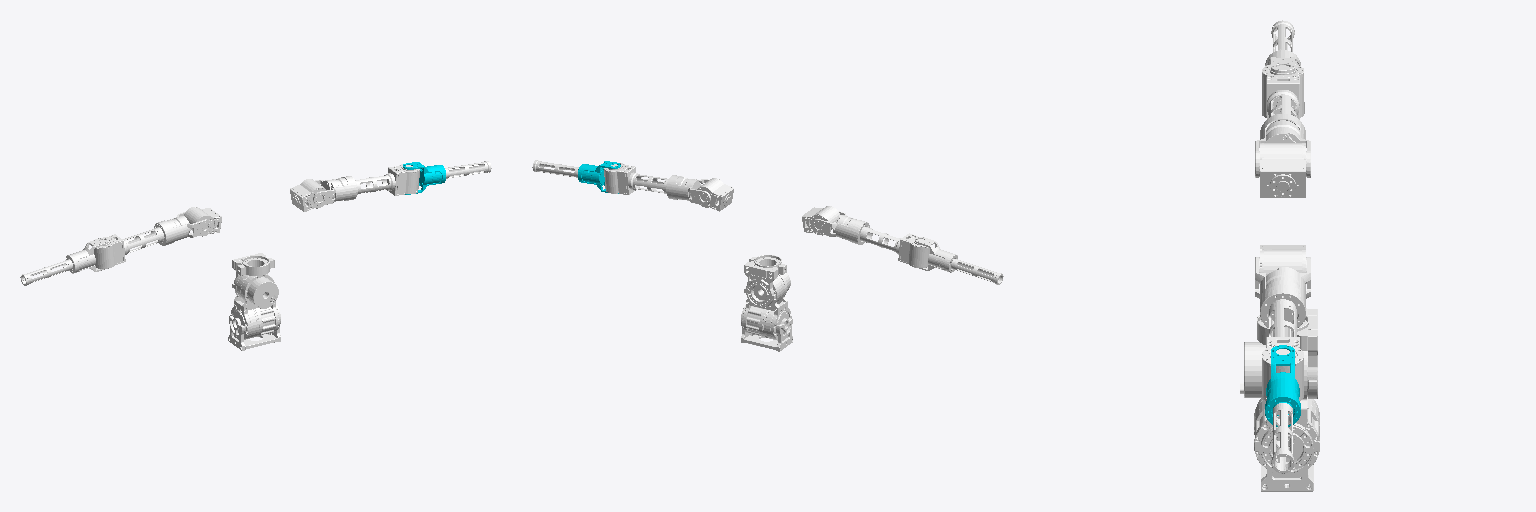
The robot description file, URDF, robot "guge_urdf":
<?xml version="1.0" encoding="utf-8"?>
<!-- This URDF was automatically created by SolidWorks to URDF Exporter! Originally created by Stephen Brawner (brawner@gmail.com) 
     Commit Version: 1.6.0-4-g7f85cfe  Build Version: 1.6.7995.38578
     For more information, please see http://wiki.ros.org/sw_urdf_exporter -->
<robot
  name="guge_urdf">
  <link name="base_footprint"/>
  <joint name="base_joint" type="fixed">
    <parent link="base_footprint"/>
    <child link="base_link"/>
    <origin xyz="0 0 0" rpy="0 0 0"/>
  </joint>
  <link
    name="base_link">
    <inertial>
      <origin
        xyz="0.00190639026610518 -0.0117675767050606 0.0121831043800871"
        rpy="0 0 0" />
      <mass
        value="0.0735648375268099" />
      <inertia
        ixx="5.12224778504478E-05"
        ixy="-1.00529921128209E-08"
        ixz="2.88787707212053E-07"
        iyy="4.80650643169955E-05"
        iyz="-1.24729593477925E-07"
        izz="5.25189016539282E-05" />
    </inertial>
    <visual>
      <origin
        xyz="0 0 0"
        rpy="0 0 0" />
      <geometry>
        <mesh
          filename="package://guge_urdf/meshes/base_link.STL" />
      </geometry>
      <material
        name="">
        <color
          rgba="1 1 1 1" />
      </material>
    </visual>
    <collision>
      <origin
        xyz="0 0 0"
        rpy="0 0 0" />
      <geometry>
        <mesh
          filename="package://guge_urdf/meshes/base_link.STL" />
      </geometry>
    </collision>
  </link>
  <link
    name="spine1">
    <inertial>
      <origin
        xyz="0.0389276332793516 0.00499533708491126 -0.000482302723753972"
        rpy="0 0 0" />
      <mass
        value="0.725188871861127" />
      <inertia
        ixx="0.00057293011231733"
        ixy="1.00676190675644E-07"
        ixz="-1.05753932755853E-06"
        iyy="0.000580138631380818"
        iyz="3.29512502419463E-07"
        izz="0.000577053228842572" />
    </inertial>
    <visual>
      <origin
        xyz="0 0 0"
        rpy="0 0 0" />
      <geometry>
        <mesh
          filename="package://guge_urdf/meshes/spine1.STL" />
      </geometry>
      <material
        name="">
        <color
          rgba="1 1 1 1" />
      </material>
    </visual>
    <collision>
      <origin
        xyz="0 0 0"
        rpy="0 0 0" />
      <geometry>
        <mesh
          filename="package://guge_urdf/meshes/spine1.STL" />
      </geometry>
    </collision>
  </link>
  <joint
    name="spine1"
    type="revolute">
    <origin
      xyz="0.00025 -0.011777 0.04725"
      rpy="3.1416 -1.5708 0" />
    <parent
      link="base_link" />
    <child
      link="spine1" />
    <axis
      xyz="0 0 -1" />
    <limit
      lower="-1.0472"
      upper="1.0472"
      effort="100"
      velocity="1" />
  </joint>
  <link
    name="spine2">
    <inertial>
      <origin
        xyz="-1.56705211504975E-09 0.037397833263464 0.0227848087513084"
        rpy="0 0 0" />
      <mass
        value="0.0915668735319825" />
      <inertia
        ixx="5.57263631097904E-05"
        ixy="-1.4948167176365E-12"
        ixz="1.40401119818368E-12"
        iyy="7.41357670859027E-05"
        iyz="3.06789885545762E-07"
        izz="8.91496241449259E-05" />
    </inertial>
    <visual>
      <origin
        xyz="0 0 0"
        rpy="0 0 0" />
      <geometry>
        <mesh
          filename="package://guge_urdf/meshes/spine2.STL" />
      </geometry>
      <material
        name="">
        <color
          rgba="1 1 1 1" />
      </material>
    </visual>
    <collision>
      <origin
        xyz="0 0 0"
        rpy="0 0 0" />
      <geometry>
        <mesh
          filename="package://guge_urdf/meshes/spine2.STL" />
      </geometry>
    </collision>
  </link>
  <joint
    name="spine2"
    type="revolute">
    <origin
      xyz="0.082 0.005 0"
      rpy="1.5708 1.5708 0" />
    <parent
      link="spine1" />
    <child
      link="spine2" />
    <axis
      xyz="0 0 1" />
    <limit
      lower="-1.0472"
      upper="1.0472"
      effort="100"
      velocity="1" />
  </joint>
  <link
    name="spine3">
    <inertial>
      <origin
        xyz="-0.105525092918912 9.89614714619036E-05 -0.000781485814982597"
        rpy="0 0 0" />
      <mass
        value="0.952000795664401" />
      <inertia
        ixx="0.000775321788502458"
        ixy="-2.03648065018548E-08"
        ixz="6.51952018651341E-07"
        iyy="0.000750870190589932"
        iyz="1.3604796395898E-07"
        izz="0.0011267481289553" />
    </inertial>
    <visual>
      <origin
        xyz="0 0 0"
        rpy="0 0 0" />
      <geometry>
        <mesh
          filename="package://guge_urdf/meshes/spine3.STL" />
      </geometry>
      <material
        name="">
        <color
          rgba="0 0.925490196078431 1 1" />
      </material>
    </visual>
    <collision>
      <origin
        xyz="0 0 0"
        rpy="0 0 0" />
      <geometry>
        <mesh
          filename="package://guge_urdf/meshes/spine3.STL" />
      </geometry>
    </collision>
  </link>
  <joint
    name="spine3"
    type="revolute">
    <origin
      xyz="0 0.0645 0"
      rpy="0 0 -1.5708" />
    <parent
      link="spine2" />
    <child
      link="spine3" />
    <axis
      xyz="1 0 0" />
    <limit
      lower="-1.0472"
      upper="1.0472"
      effort="100"
      velocity="1" />
  </joint>
  <link
    name="left_arm1">
    <inertial>
      <origin
        xyz="-0.0362475607657735 5.69056149424263E-10 -0.000276670710870803"
        rpy="0 0 0" />
      <mass
        value="0.161439178700446" />
      <inertia
        ixx="6.77226963517571E-05"
        ixy="-2.43681565201346E-13"
        ixz="-2.77566680821334E-07"
        iyy="8.4282842984588E-05"
        iyz="-9.91046566710213E-10"
        izz="6.90616005014233E-05" />
    </inertial>
    <visual>
      <origin
        xyz="0 0 0"
        rpy="0 0 0" />
      <geometry>
        <mesh
          filename="package://guge_urdf/meshes/left_arm1.STL" />
      </geometry>
      <material
        name="">
        <color
          rgba="1 1 1 1" />
      </material>
    </visual>
    <collision>
      <origin
        xyz="0 0 0"
        rpy="0 0 0" />
      <geometry>
        <mesh
          filename="package://guge_urdf/meshes/left_arm1.STL" />
      </geometry>
    </collision>
  </link>
  <joint
    name="left_arm1"
    type="revolute">
    <origin
      xyz="-0.13199 0.10772 0"
      rpy="0 0 -1.3963" />
    <parent
      link="spine3" />
    <child
      link="left_arm1" />
    <axis
      xyz="1 0 0" />
    <limit
      lower="-2.0944"
      upper="2.0944"
      effort="100"
      velocity="1" />
  </joint>
  <link
    name="left_arm2">
    <inertial>
      <origin
        xyz="1.62124578136115E-05 -0.0657239022806876 -1.94246126211661E-07"
        rpy="0 0 0" />
      <mass
        value="0.158227100759892" />
      <inertia
        ixx="0.00011101791282566"
        ixy="9.51083034986573E-09"
        ixz="-4.48264615859192E-07"
        iyy="6.59201417952007E-05"
        iyz="-2.21910128137963E-10"
        izz="0.000124015936889463" />
    </inertial>
    <visual>
      <origin
        xyz="0 0 0"
        rpy="0 0 0" />
      <geometry>
        <mesh
          filename="package://guge_urdf/meshes/letf_arm2.STL" />
      </geometry>
      <material
        name="">
        <color
          rgba="1 1 1 1" />
      </material>
    </visual>
    <collision>
      <origin
        xyz="0 0 0"
        rpy="0 0 0" />
      <geometry>
        <mesh
          filename="package://guge_urdf/meshes/letf_arm2.STL" />
      </geometry>
    </collision>
  </link>
  <joint
    name="left_arm2"
    type="revolute">
    <origin
      xyz="-0.0455 0 0"
      rpy="1.3091 -1.5708 3.1416" />
    <parent
      link="left_arm1" />
    <child
      link="left_arm2" />
    <axis
      xyz="1 0 0" />
    <limit
      lower="-2.2689"
      upper="2.2689"
      effort="100"
      velocity="1" />
  </joint>
  <link
    name="left_arm3">
    <inertial>
      <origin
        xyz="-0.130583566946272 0.000138485195165489 -1.30075265957624E-07"
        rpy="0 0 0" />
      <mass
        value="0.183435528555647" />
      <inertia
        ixx="7.34005893594831E-05"
        ixy="-2.78265673363987E-07"
        ixz="1.20682067839756E-09"
        iyy="0.000103245245639303"
        iyz="1.0126928489571E-08"
        izz="0.00011845594161857" />
    </inertial>
    <visual>
      <origin
        xyz="0 0 0"
        rpy="0 0 0" />
      <geometry>
        <mesh
          filename="package://guge_urdf/meshes/letf_arm3.STL" />
      </geometry>
      <material
        name="">
        <color
          rgba="1 1 1 1" />
      </material>
    </visual>
    <collision>
      <origin
        xyz="0 0 0"
        rpy="0 0 0" />
      <geometry>
        <mesh
          filename="package://guge_urdf/meshes/letf_arm3.STL" />
      </geometry>
    </collision>
  </link>
  <joint
    name="left_arm3"
    type="revolute">
    <origin
      xyz="1.5E-05 -0.103 0"
      rpy="-1.5708 0 1.5708" />
    <parent
      link="left_arm2" />
    <child
      link="left_arm3" />
    <axis
      xyz="-1 0 0" />
    <limit
      lower="-2.0944"
      upper="2.0944"
      effort="100"
      velocity="1" />
  </joint>
  <link
    name="left_arm4">
    <inertial>
      <origin
        xyz="0.000495647305943342 -0.0563067339315681 1.40988440928969E-07"
        rpy="0 0 0" />
      <mass
        value="0.0862002261321482" />
      <inertia
        ixx="4.43487500505482E-05"
        ixy="1.18962177525358E-08"
        ixz="-7.73868876942444E-10"
        iyy="2.73177082557491E-05"
        iyz="-4.46513009035675E-11"
        izz="5.38102290465927E-05" />
    </inertial>
    <visual>
      <origin
        xyz="0 0 0"
        rpy="0 0 0" />
      <geometry>
        <mesh
          filename="package://guge_urdf/meshes/letf_arm4.STL" />
      </geometry>
      <material
        name="">
        <color
          rgba="1 1 1 1" />
      </material>
    </visual>
    <collision>
      <origin
        xyz="0 0 0"
        rpy="0 0 0" />
      <geometry>
        <mesh
          filename="package://guge_urdf/meshes/letf_arm4.STL" />
      </geometry>
    </collision>
  </link>
  <joint
    name="left_arm4"
    type="revolute">
    <origin
      xyz="-0.1505 0 0"
      rpy="3.1416 0 1.5708" />
    <parent
      link="left_arm3" />
    <child
      link="left_arm4" />
    <axis
      xyz="-1 0 0" />
    <limit
      lower="-2.0944"
      upper="2.0944"
      effort="100"
      velocity="1" />
  </joint>
  <link
    name="left_arm5">
    <inertial>
      <origin
        xyz="0.0613545689657162 -7.53654428649331E-07 9.49357964047381E-07"
        rpy="0 0 0" />
      <mass
        value="0.0159909789683146" />
      <inertia
        ixx="2.01607720240835E-06"
        ixy="-7.22779476448106E-10"
        ixz="9.17251228240111E-10"
        iyy="3.00020832431416E-05"
        iyz="4.16027131068942E-09"
        izz="3.00001299678427E-05" />
    </inertial>
    <visual>
      <origin
        xyz="0 0 0"
        rpy="0 0 0" />
      <geometry>
        <mesh
          filename="package://guge_urdf/meshes/letf_arm5.STL" />
      </geometry>
      <material
        name="">
        <color
          rgba="1 1 1 1" />
      </material>
    </visual>
    <collision>
      <origin
        xyz="0 0 0"
        rpy="0 0 0" />
      <geometry>
        <mesh
          filename="package://guge_urdf/meshes/letf_arm5.STL" />
      </geometry>
    </collision>
  </link>
  <joint
    name="left_arm5"
    type="revolute">
    <origin
      xyz="0.00049256 -0.09 0"
      rpy="-1.5708 0 -1.5708" />
    <parent
      link="left_arm4" />
    <child
      link="left_arm5" />
    <axis
      xyz="-1 0 0" />
    <limit
      lower="-2.0944"
      upper="2.0944"
      effort="100"
      velocity="1" />
  </joint>
  <link
    name="right_arm1">
    <inertial>
      <origin
        xyz="-0.0362475607657736 -0.000276670710870803 -5.69057301280651E-10"
        rpy="0 0 0" />
      <mass
        value="0.161439178700446" />
      <inertia
        ixx="6.7722696351757E-05"
        ixy="-2.77566680821345E-07"
        ixz="2.43681067145962E-13"
        iyy="6.90616005014232E-05"
        iyz="9.91046566699499E-10"
        izz="8.42828429845879E-05" />
    </inertial>
    <visual>
      <origin
        xyz="0 0 0"
        rpy="0 0 0" />
      <geometry>
        <mesh
          filename="package://guge_urdf/meshes/right_arm1.STL" />
      </geometry>
      <material
        name="">
        <color
          rgba="1 1 1 1" />
      </material>
    </visual>
    <collision>
      <origin
        xyz="0 0 0"
        rpy="0 0 0" />
      <geometry>
        <mesh
          filename="package://guge_urdf/meshes/right_arm1.STL" />
      </geometry>
    </collision>
  </link>
  <joint
    name="right_arm1"
    type="revolute">
    <origin
      xyz="-0.13199 -0.10772 0"
      rpy="-1.5708 0 1.3963" />
    <parent
      link="spine3" />
    <child
      link="right_arm1" />
    <axis
      xyz="1 0 0" />
    <limit
      lower="-2.0944"
      upper="2.0944"
      effort="100"
      velocity="1" />
  </joint>
  <link
    name="right_arm2">
    <inertial>
      <origin
        xyz="1.94246126128395E-07 -0.0657239022806877 1.62124578136462E-05"
        rpy="0 0 0" />
      <mass
        value="0.158227100759892" />
      <inertia
        ixx="0.000124015936889462"
        ixy="2.21910128315818E-10"
        ixz="4.48264615859155E-07"
        iyy="6.59201417952006E-05"
        iyz="9.51083034978799E-09"
        izz="0.00011101791282566" />
    </inertial>
    <visual>
      <origin
        xyz="0 0 0"
        rpy="0 0 0" />
      <geometry>
        <mesh
          filename="package://guge_urdf/meshes/right_arm2.STL" />
      </geometry>
      <material
        name="">
        <color
          rgba="1 1 1 1" />
      </material>
    </visual>
    <collision>
      <origin
        xyz="0 0 0"
        rpy="0 0 0" />
      <geometry>
        <mesh
          filename="package://guge_urdf/meshes/right_arm2.STL" />
      </geometry>
    </collision>
  </link>
  <joint
    name="right_arm2"
    type="revolute">
    <origin
      xyz="-0.0455 0 0"
      rpy="1.5708 -1.3090 3.1416" />
    <parent
      link="right_arm1" />
    <child
      link="right_arm2" />
    <axis
      xyz="0 0 -1" />
    <limit
      lower="-2.0944"
      upper="2.0944"
      effort="100"
      velocity="1" />
  </joint>
  <link
    name="right_arm3">
    <inertial>
      <origin
        xyz="-0.130583566946272 0.0001384851951656 -1.30075266027013E-07"
        rpy="0 0 0" />
      <mass
        value="0.183435528555647" />
      <inertia
        ixx="7.34005893594831E-05"
        ixy="-2.7826567336397E-07"
        ixz="1.20682067843099E-09"
        iyy="0.000103245245639303"
        iyz="1.01269284896162E-08"
        izz="0.00011845594161857" />
    </inertial>
    <visual>
      <origin
        xyz="0 0 0"
        rpy="0 0 0" />
      <geometry>
        <mesh
          filename="package://guge_urdf/meshes/right_arm3.STL" />
      </geometry>
      <material
        name="">
        <color
          rgba="1 1 1 1" />
      </material>
    </visual>
    <collision>
      <origin
        xyz="0 0 0"
        rpy="0 0 0" />
      <geometry>
        <mesh
          filename="package://guge_urdf/meshes/right_arm3.STL" />
      </geometry>
    </collision>
  </link>
  <joint
    name="right_arm3"
    type="revolute">
    <origin
      xyz="0 -0.103 1.5E-05"
      rpy="-3.1416 0 1.5708" />
    <parent
      link="right_arm2" />
    <child
      link="right_arm3" />
    <axis
      xyz="-1 0 0" />
    <limit
      lower="-2.0944"
      upper="2.0944"
      effort="100"
      velocity="1" />
  </joint>
  <link
    name="right_arm4">
    <inertial>
      <origin
        xyz="0.000495647305943259 -0.0563067339315681 1.40988440883866E-07"
        rpy="0 0 0" />
      <mass
        value="0.0862002261321484" />
      <inertia
        ixx="4.43487500505483E-05"
        ixy="1.18962177525968E-08"
        ixz="-7.73868876995168E-10"
        iyy="2.73177082557492E-05"
        iyz="-4.465130087759E-11"
        izz="5.38102290465928E-05" />
    </inertial>
    <visual>
      <origin
        xyz="0 0 0"
        rpy="0 0 0" />
      <geometry>
        <mesh
          filename="package://guge_urdf/meshes/right_arm4.STL" />
      </geometry>
      <material
        name="">
        <color
          rgba="0 0.925490196078431 1 1" />
      </material>
    </visual>
    <collision>
      <origin
        xyz="0 0 0"
        rpy="0 0 0" />
      <geometry>
        <mesh
          filename="package://guge_urdf/meshes/right_arm4.STL" />
      </geometry>
    </collision>
  </link>
  <joint
    name="right_arm4"
    type="revolute">
    <origin
      xyz="-0.1505 0 0"
      rpy="3.1416 0 1.5708" />
    <parent
      link="right_arm3" />
    <child
      link="right_arm4" />
    <axis
      xyz="-1 0 0" />
    <limit
      lower="-2.0944"
      upper="2.0944"
      effort="100"
      velocity="1" />
  </joint>
  <link
    name="right_arm5">
    <inertial>
      <origin
        xyz="0.0613545689657166 9.4935796399187E-07 7.53654428895661E-07"
        rpy="0 0 0" />
      <mass
        value="0.0159909789683142" />
      <inertia
        ixx="2.01607720240832E-06"
        ixy="9.17251228225181E-10"
        ixz="7.22779476440289E-10"
        iyy="3.00001299678425E-05"
        iyz="-4.1602713106709E-09"
        izz="3.00020832431414E-05" />
    </inertial>
    <visual>
      <origin
        xyz="0 0 0"
        rpy="0 0 0" />
      <geometry>
        <mesh
          filename="package://guge_urdf/meshes/right_arm5.STL" />
      </geometry>
      <material
        name="">
        <color
          rgba="1 1 1 1" />
      </material>
    </visual>
    <collision>
      <origin
        xyz="0 0 0"
        rpy="0 0 0" />
      <geometry>
        <mesh
          filename="package://guge_urdf/meshes/right_arm5.STL" />
      </geometry>
    </collision>
  </link>
  <joint
    name="right_arm5"
    type="revolute">
    <origin
      xyz="0.00049256 -0.09 0"
      rpy="0 0 -1.5708" />
    <parent
      link="right_arm4" />
    <child
      link="right_arm5" />
    <axis
      xyz="-1 0 0" />
    <limit
      lower="-2.0944"
      upper="2.0944"
      effort="100"
      velocity="1" />
  </joint>
</robot>

--- What the picture shows (computed from the rendered views, not written in the file) ---
3 views of the same robot in one strip: view 1: azimuth 30°, elevation 25°; view 2: azimuth 150°, elevation 25°; view 3: azimuth 270°, elevation 25° (orthographic).
Model guge_urdf with 15 links and 14 joints (13 revolute, 1 fixed), rooted at base_footprint, posed all joints at 0.
Links seen in each view (by area): view 1: spine1, left_arm3, right_arm3, left_arm2, right_arm2, base_link, spine2, right_arm1, left_arm4, right_arm4, left_arm1; view 2: spine1, spine2, left_arm3, right_arm3, left_arm2, right_arm2, base_link, right_arm1, left_arm4, right_arm4, left_arm1, left_arm5; view 3: spine1, left_arm1, right_arm2, right_arm3, base_link, left_arm3, right_arm4, spine2, left_arm2, right_arm5, right_arm1, left_arm4 (+1 smaller).
Link boxes in pixels (x1,y1,x2,y2): spine1: (230,274,279,339); left_arm3: (94,227,163,268); right_arm3: (356,164,419,195); left_arm2: (154,212,211,245); right_arm2: (313,176,357,205); base_link: (228,305,280,350); spine2: (232,253,274,287); right_arm1: (290,179,326,211); left_arm4: (66,238,108,273); right_arm4: (403,162,445,194); left_arm1: (184,207,221,236); spine1: (742,273,791,340); spine2: (744,255,786,307); left_arm3: (860,227,929,267); right_arm3: (604,163,668,194); left_arm2: (812,211,869,244); right_arm2: (666,175,710,204); base_link: (741,305,792,351); right_arm1: (697,178,733,211); left_arm4: (915,237,957,272); right_arm4: (578,161,620,193); left_arm1: (802,206,839,235); left_arm5: (951,259,1003,284); spine1: (1240,342,1319,468); left_arm1: (1259,143,1306,197); right_arm2: (1255,257,1310,330); right_arm3: (1262,301,1303,400); base_link: (1261,425,1313,491); left_arm3: (1262,65,1304,119); right_arm4: (1265,345,1300,426); spine2: (1257,308,1317,398); left_arm2: (1255,113,1310,177); right_arm5: (1271,403,1294,473); right_arm1: (1259,245,1306,283); left_arm4: (1265,50,1300,72).
Bounding box of the posed robot: 1.24 × 0.0973 × 0.3684 m (x, y, z).
13 mesh visuals loaded from 14 distinct referenced files (13 binary STL); not drawn: 1 (reference not matched to a file when rendering).
